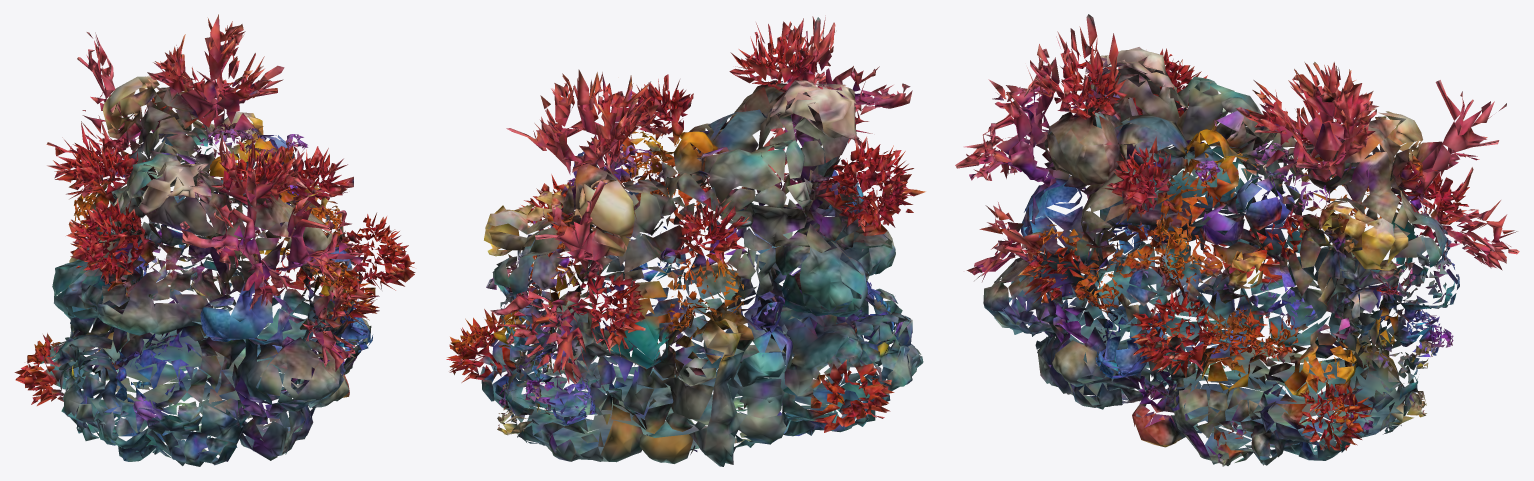
Rendered from coral_rainbow.glb.
The picture shows the model from 3 angles, left to right: view 1: azimuth 30°, elevation 25°; view 2: azimuth 150°, elevation 25°; view 3: azimuth 270°, elevation 25°; orthographic projection. The views are drawn at different scales.
Visible parts, largest first — view 1: Object_5, Object_4, Object_6, Object_7, Object_8, Object_9, Object_10; view 2: Object_5, Object_4, Object_6, Object_7, Object_8, Object_9, Object_10, Object_11; view 3: Object_5, Object_4, Object_6, Object_7, Object_8, Object_9, Object_10.
Boxes of the visible parts, bbox=[...] form: Object_5: bbox=[14, 17, 409, 466]; Object_4: bbox=[27, 37, 389, 465]; Object_6: bbox=[15, 31, 414, 462]; Object_7: bbox=[25, 21, 409, 465]; Object_8: bbox=[21, 14, 414, 454]; Object_9: bbox=[32, 61, 415, 416]; Object_10: bbox=[34, 28, 395, 405]; Object_5: bbox=[479, 23, 923, 449]; Object_4: bbox=[484, 29, 920, 466]; Object_6: bbox=[449, 16, 912, 461]; Object_7: bbox=[446, 29, 925, 452]; Object_8: bbox=[447, 15, 912, 454]; Object_9: bbox=[450, 39, 920, 442]; Object_10: bbox=[452, 32, 894, 453]; Object_11: bbox=[467, 66, 904, 451]; Object_5: bbox=[955, 31, 1508, 466]; Object_4: bbox=[971, 38, 1498, 465]; Object_6: bbox=[966, 14, 1514, 465]; Object_7: bbox=[973, 28, 1517, 459]; Object_8: bbox=[966, 38, 1519, 462]; Object_9: bbox=[974, 54, 1489, 465]; Object_10: bbox=[992, 72, 1490, 459].
Bounding box in the file's own units: 1.84 × 1.64 × 2.3.
Materials: 1 (1 with a texture image).
